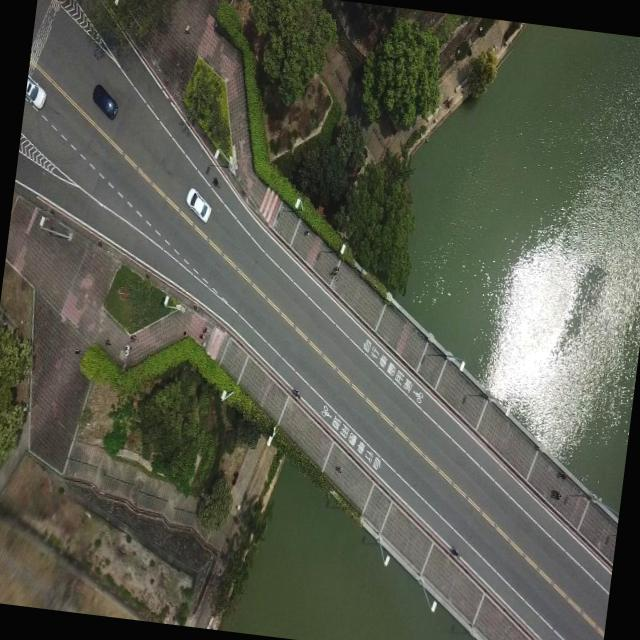car: (90, 80, 120, 120), (184, 186, 212, 223), (23, 74, 48, 108)
